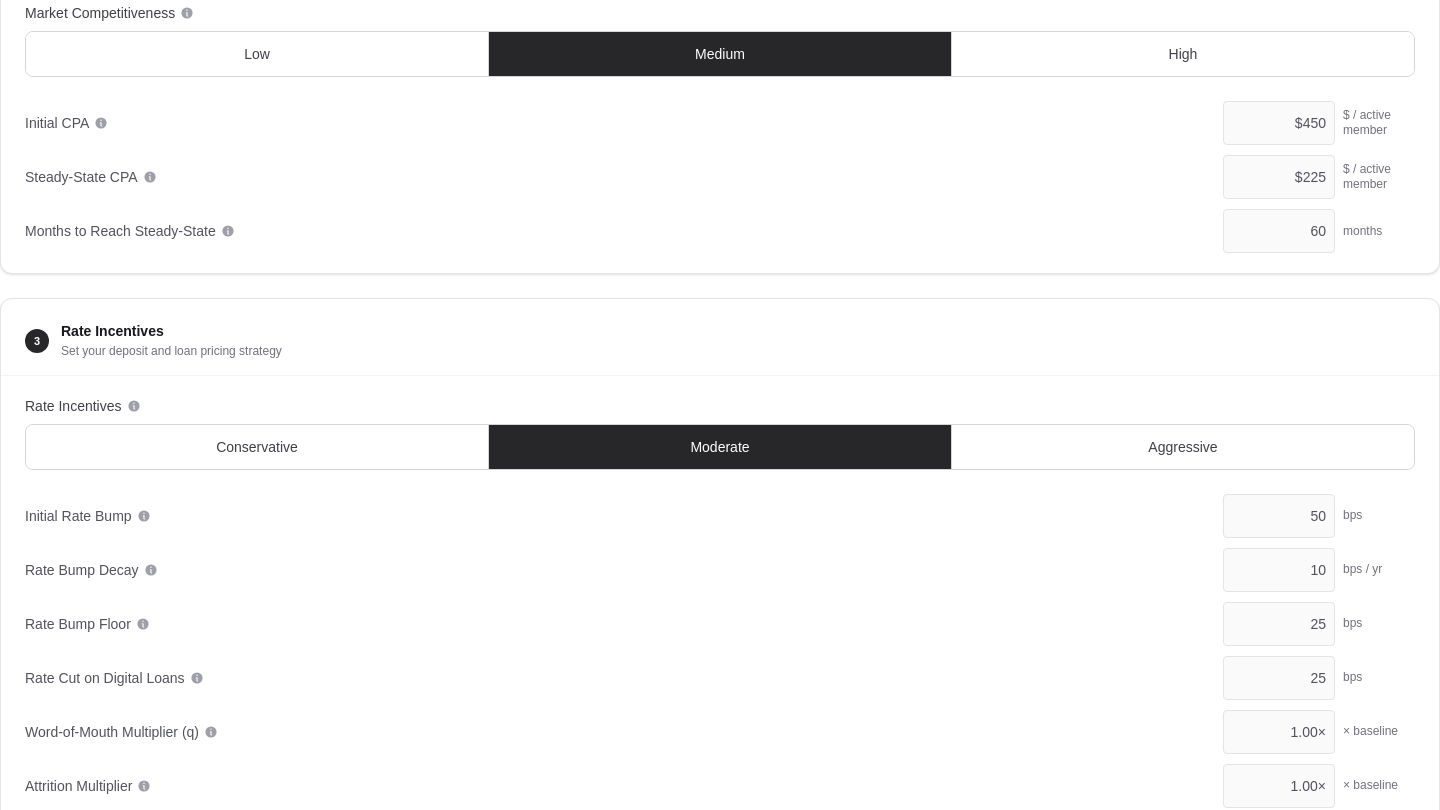
ModelInputs › lever tooltips › Rate Incentives tooltip describes hot money / word-of-mouth effects
(page scrolled)
Hover over the 5th button named "more information".
mouse_move(134, 406)  # box [126,398,142,414]
(page scrolled)
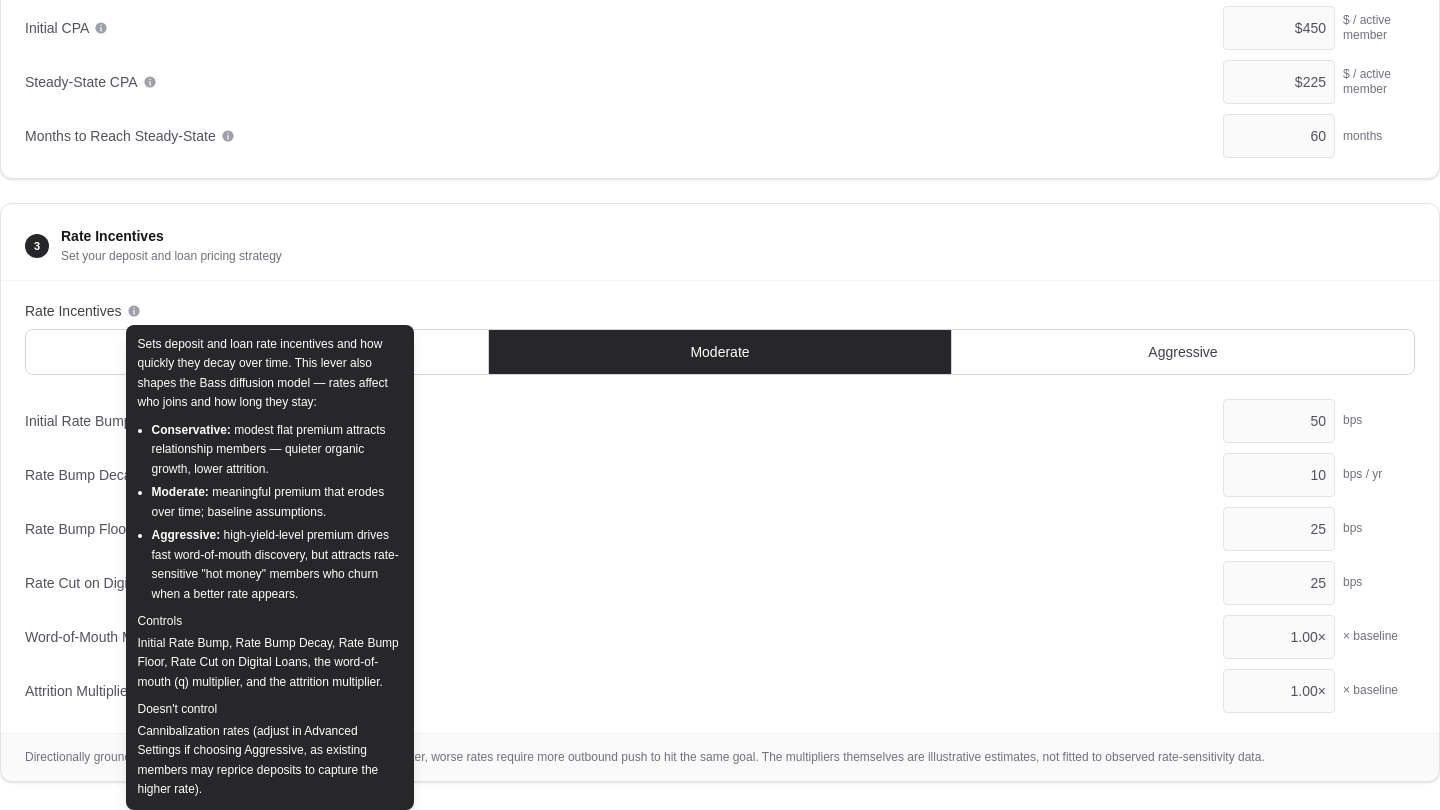
expect the tooltip shows "hot money": met, box [152,528,399,600]
expect the tooltip shows "word-of-mouth": met, box [152,528,399,600]
